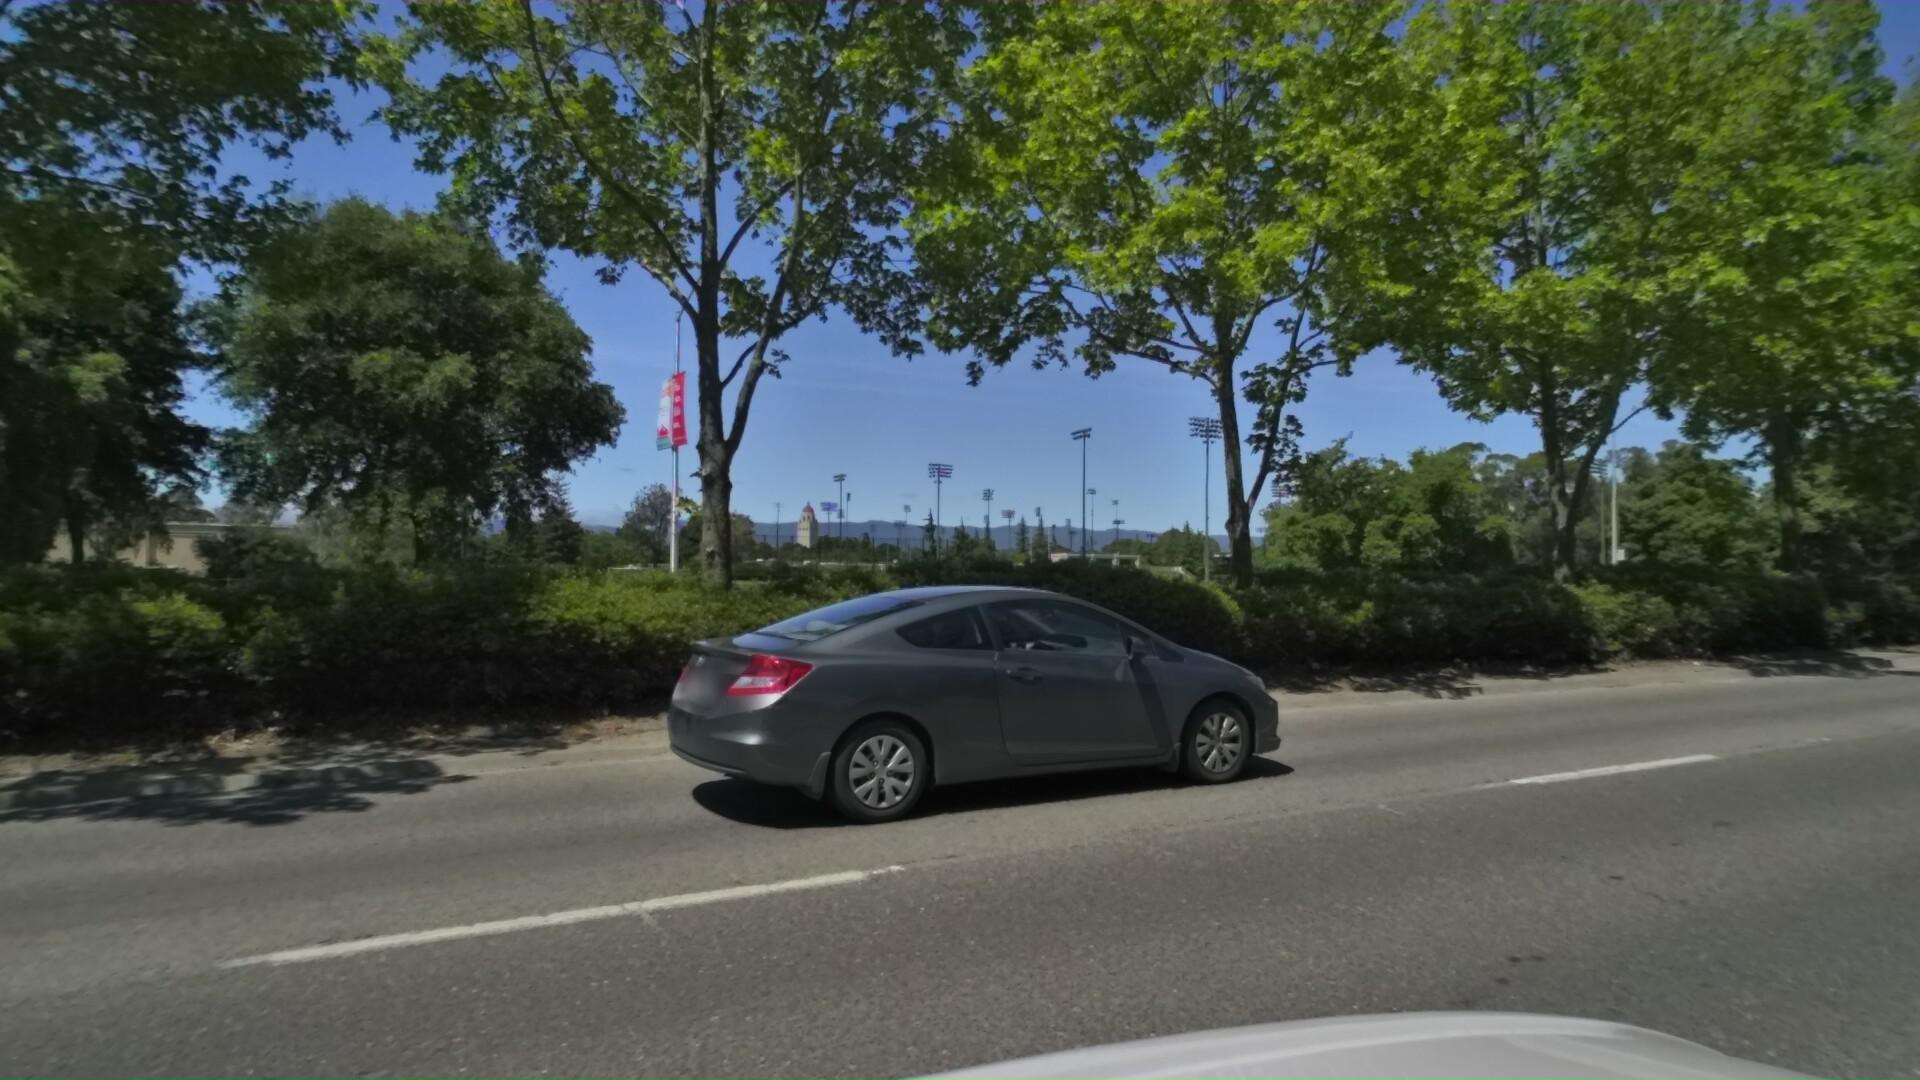car: (644, 580, 1327, 858)
